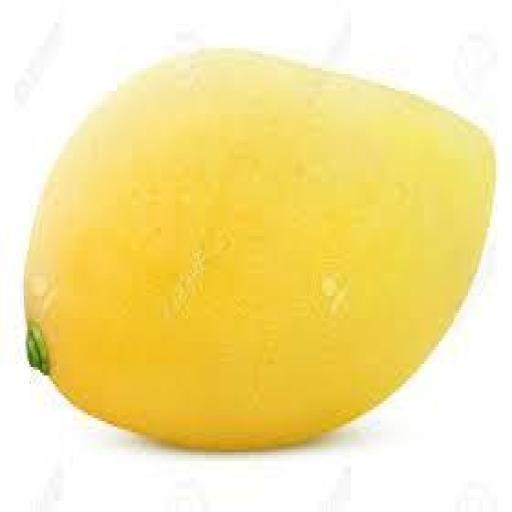mango: (26, 52, 493, 449)
